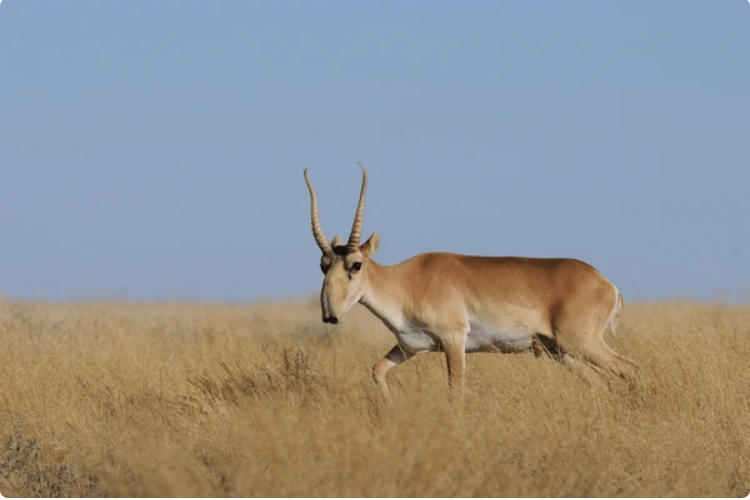saiga: (298, 161, 653, 402)
